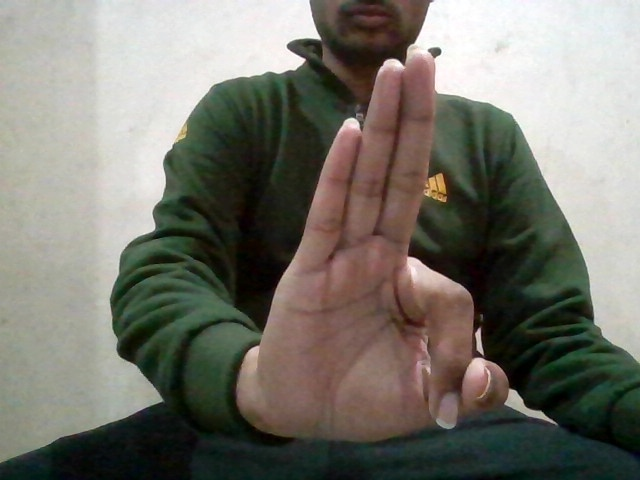F: (258, 40, 508, 446)
